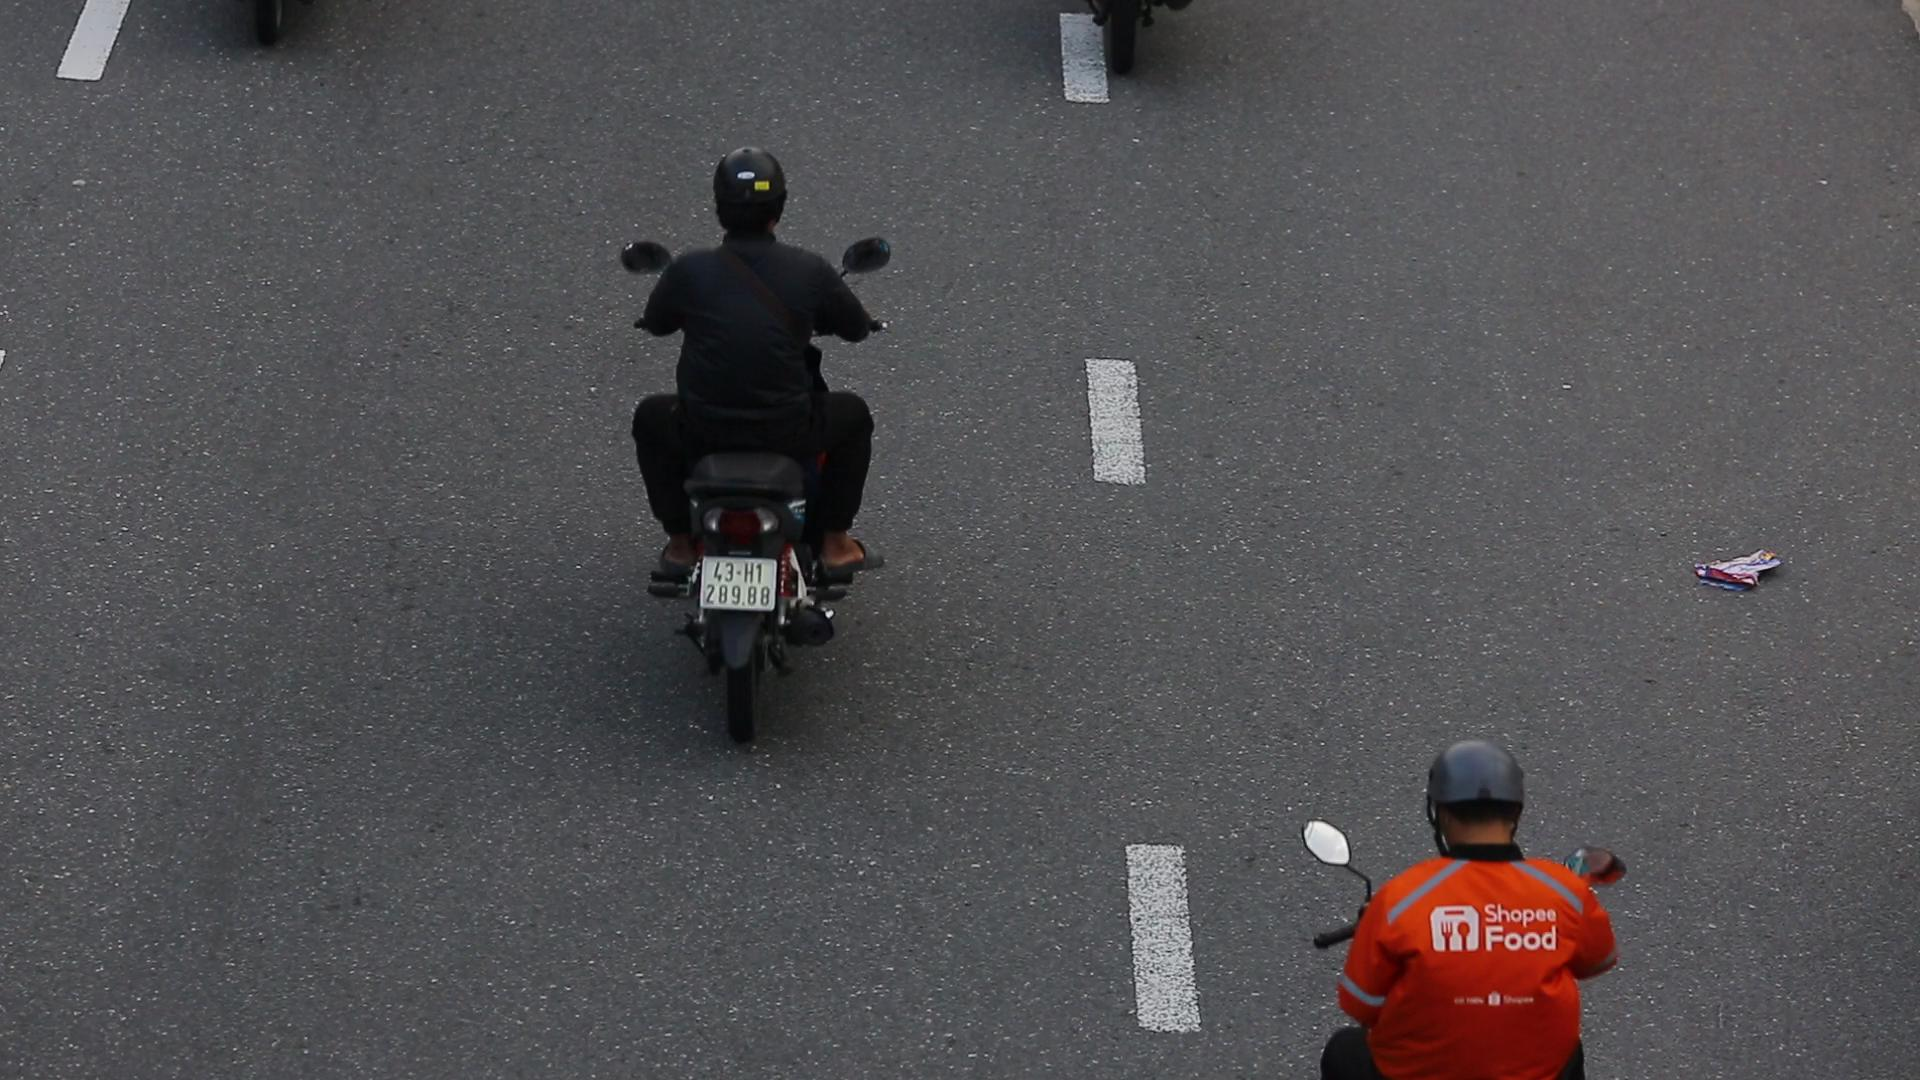motobike: (604, 135, 926, 774)
